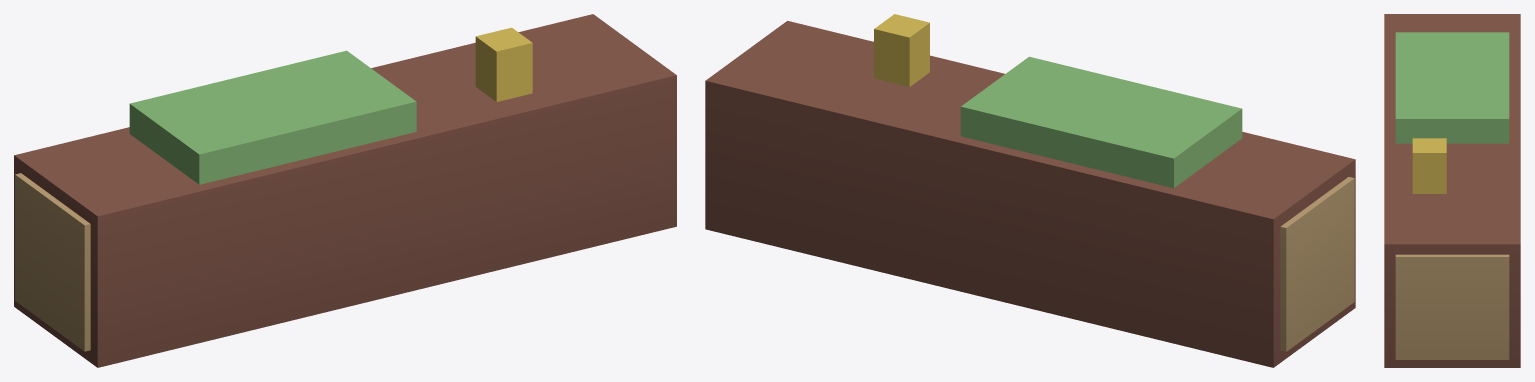
File: fallen-log.glb
The picture shows the model from 3 angles, left to right: view 1: azimuth 30°, elevation 25°; view 2: azimuth 150°, elevation 25°; view 3: azimuth 270°, elevation 25°; orthographic projection. The views are drawn at different scales.
Visible parts, largest first — view 1: fallen-log_body; view 2: fallen-log_body; view 3: fallen-log_body.
Part boxes in pixels (left/top/right/bottom): fallen-log_body: left=14, top=14, right=676, bottom=367; fallen-log_body: left=705, top=14, right=1355, bottom=367; fallen-log_body: left=1384, top=14, right=1520, bottom=367.
Size of the model in its own units: 2.45 by 0.8 by 0.6.
